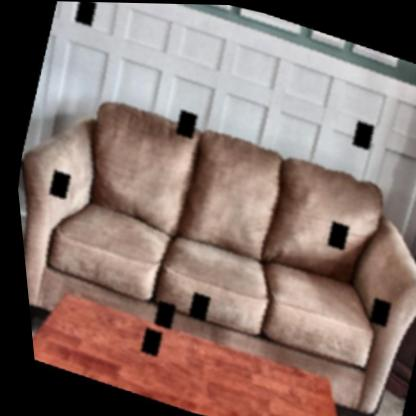Sofa: (7, 88, 416, 416)
